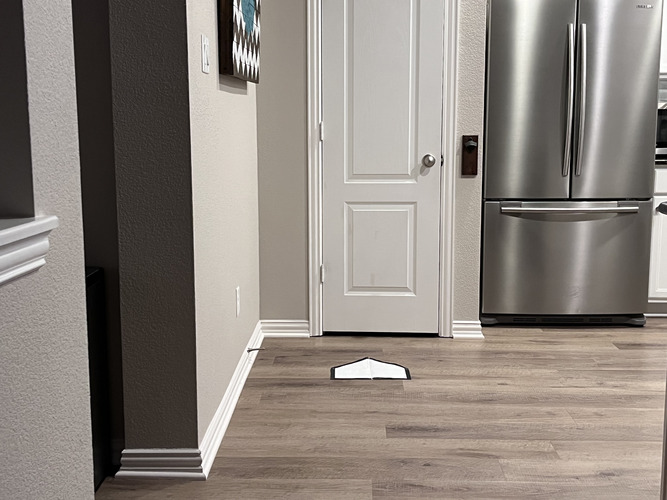homeplate: (329, 356, 411, 380)
